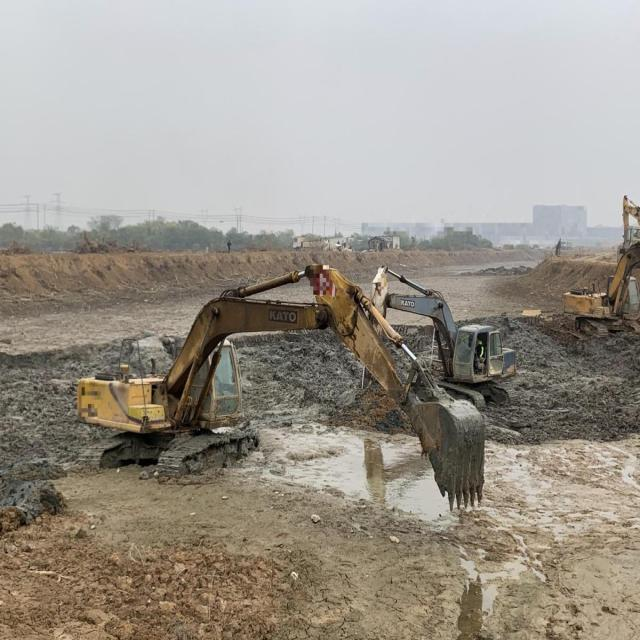excavator: (69, 251, 429, 478), (361, 252, 524, 415), (558, 217, 640, 347), (608, 190, 640, 259)
